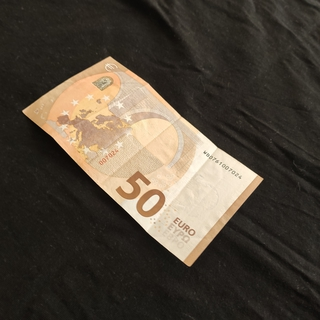50EUROBack: (19, 54, 265, 268)
